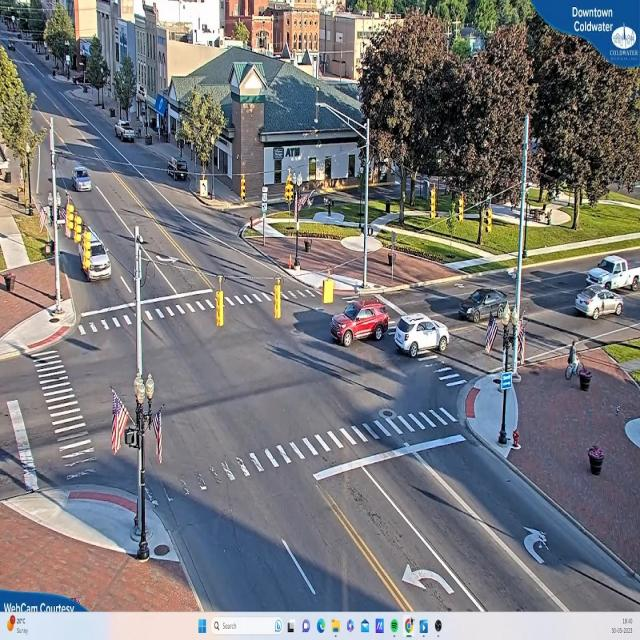car: (332, 300, 393, 345), (392, 314, 448, 358), (458, 288, 512, 325), (79, 229, 112, 283), (591, 255, 638, 292), (576, 284, 619, 320), (70, 164, 92, 193), (165, 159, 189, 180), (116, 124, 136, 143)
